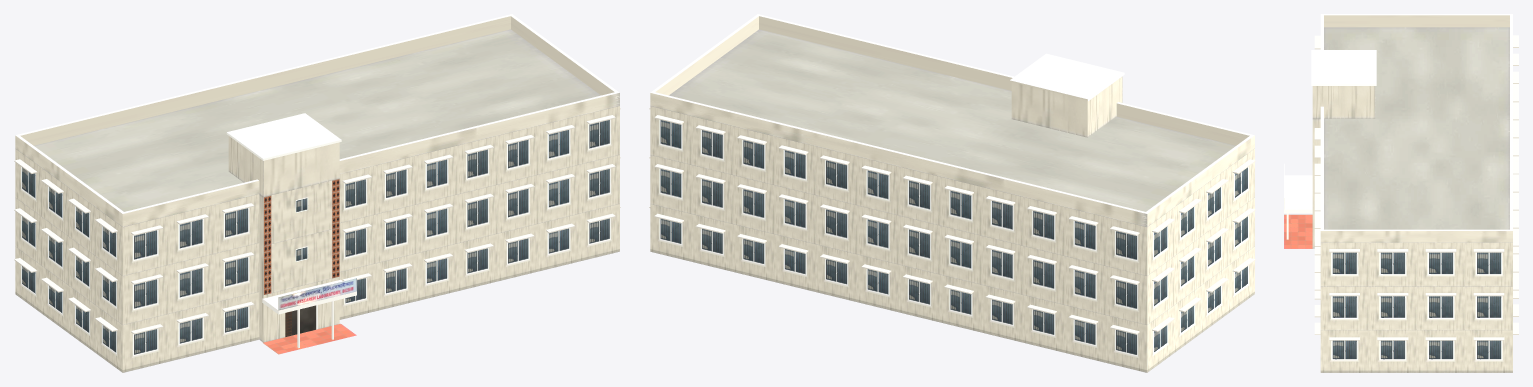
File: genomic.glb
The picture shows the model from 3 angles, left to right: view 1: azimuth 30°, elevation 25°; view 2: azimuth 150°, elevation 25°; view 3: azimuth 270°, elevation 25°; orthographic projection. The views are drawn at different scales.
Parts seen in each view (by area): view 1: Genomic; view 2: Genomic; view 3: Genomic.
Boxes of the visible parts, x1,y1,x2,y2 form: Genomic: [14, 14, 620, 372]; Genomic: [649, 14, 1255, 372]; Genomic: [1284, 14, 1518, 372].
Size of the model in its own units: 40.17 by 13.95 by 17.98.
1 material, 1 textured.
